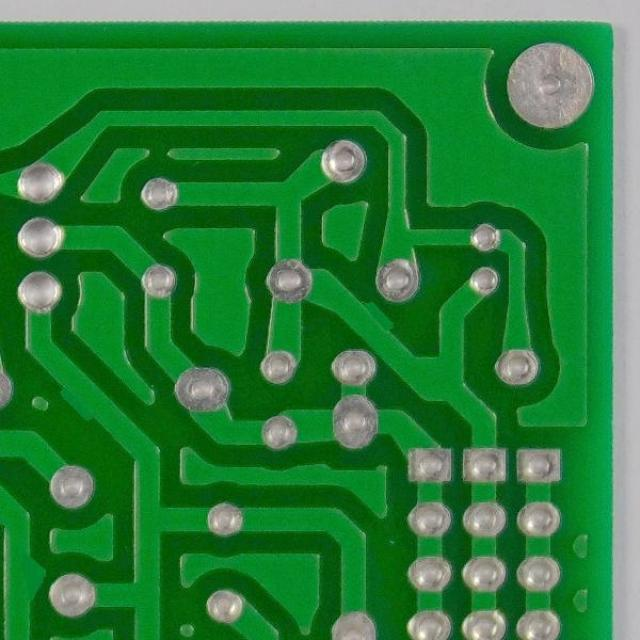Spur: (50, 373, 119, 429), (0, 541, 52, 612), (340, 296, 402, 344), (277, 458, 338, 492)
